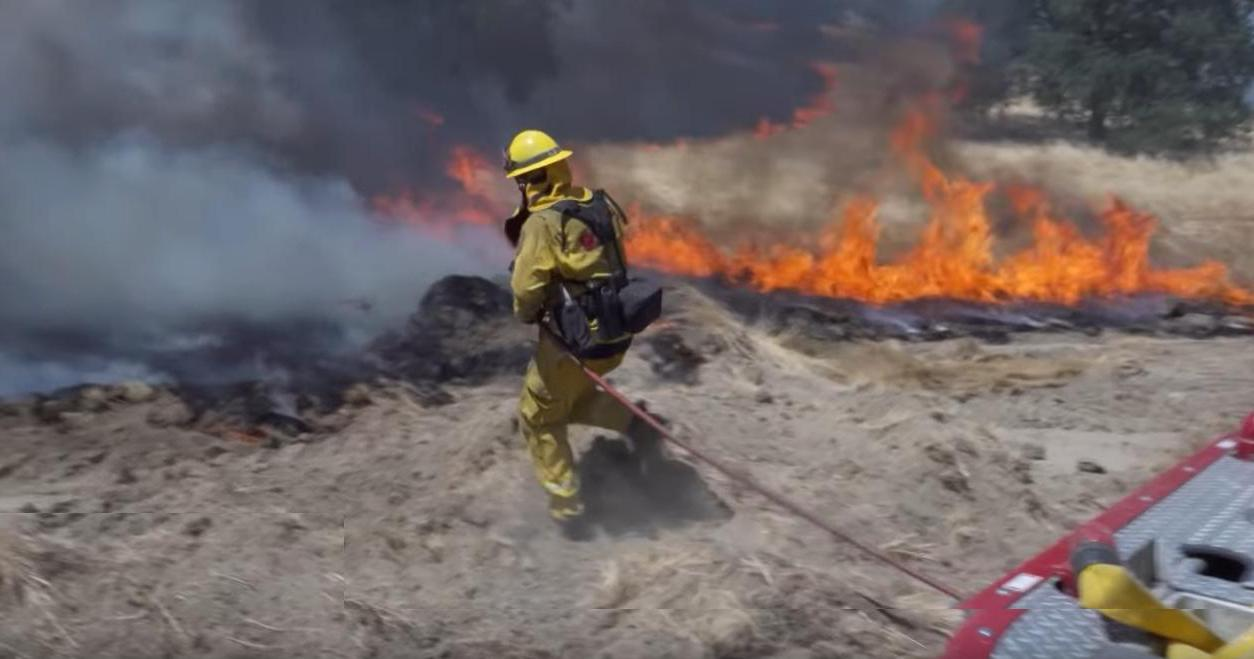Fire: (623, 101, 1250, 340), (380, 145, 493, 224), (754, 66, 840, 143)
